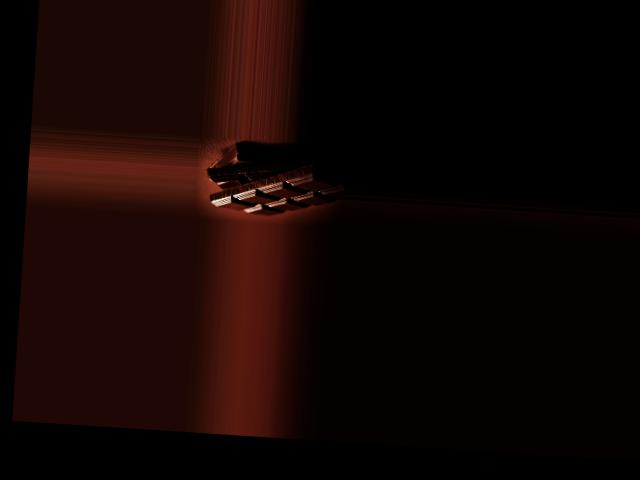chocolate: (205, 149, 342, 219)
